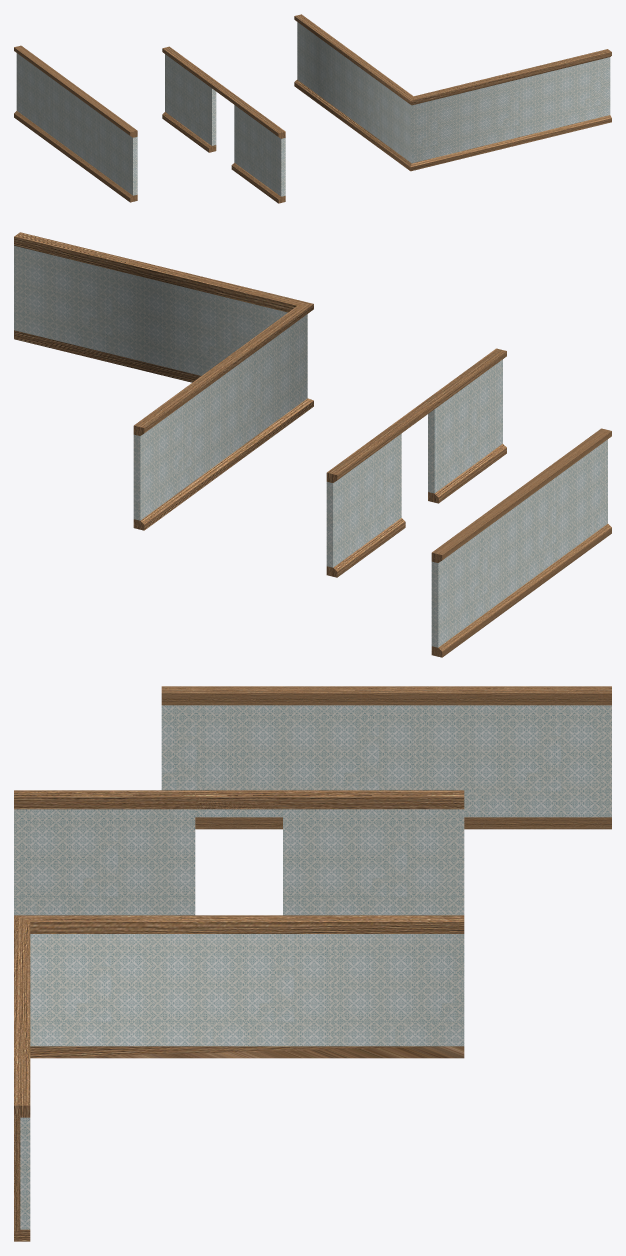
File: wallSet1.FBX
The picture shows the model from 3 angles, top to bottom: view 1: azimuth 30°, elevation 25°; view 2: azimuth 150°, elevation 25°; view 3: azimuth 270°, elevation 25°; orthographic projection. The views are drawn at different scales.
Visible parts, largest first — view 1: Box002, Box001, Box003; view 2: Box002, Box001, Box003; view 3: Box002, Box001, Box003.
Boxes of the visible parts, left/top/right/bottom form: Box002: left=294, top=14, right=611, bottom=171; Box001: left=14, top=45, right=137, bottom=202; Box003: left=162, top=46, right=285, bottom=203; Box002: left=14, top=232, right=313, bottom=530; Box001: left=431, top=428, right=611, bottom=657; Box003: left=326, top=348, right=506, bottom=577; Box002: left=14, top=915, right=464, bottom=1241; Box001: left=161, top=686, right=611, bottom=829; Box003: left=14, top=790, right=464, bottom=915.
Bounding box in the file's own units: 793 × 120 × 478.
1 material, 1 textured.
